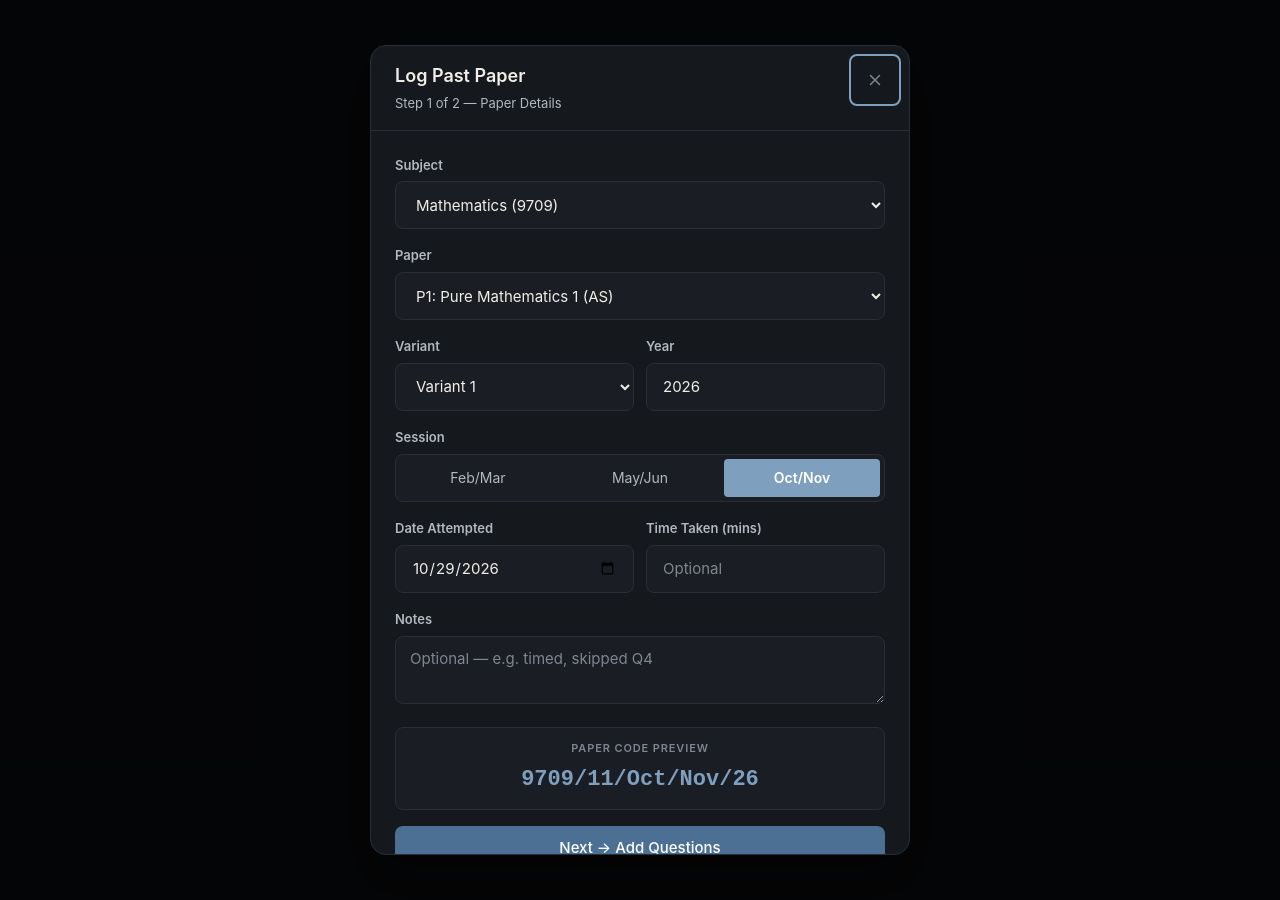
Scenario: full-paper question marks (false = editing) › rejects maximum  without coercing or saving it
The image size is (1280, 900).
Expected: the button "Next → Add Questions" is enabled, x1=395 y1=826 x2=885 y2=855
Click the button "Next → Add Questions" at (640, 848), box x1=395 y1=826 x2=885 y2=870
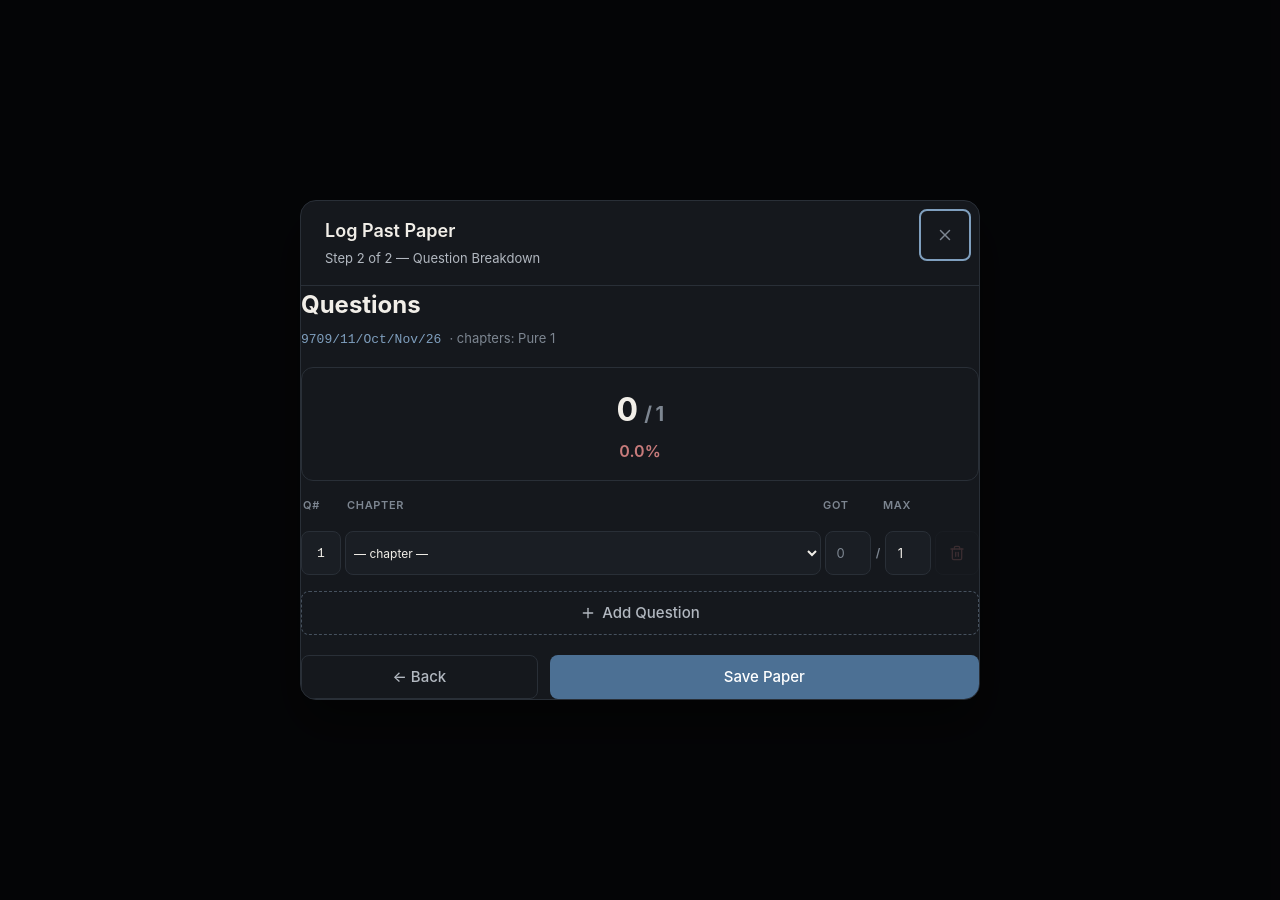
Clear the number field named "Question 1 marks available" at (908, 553), box x1=885 y1=531 x2=931 y2=575
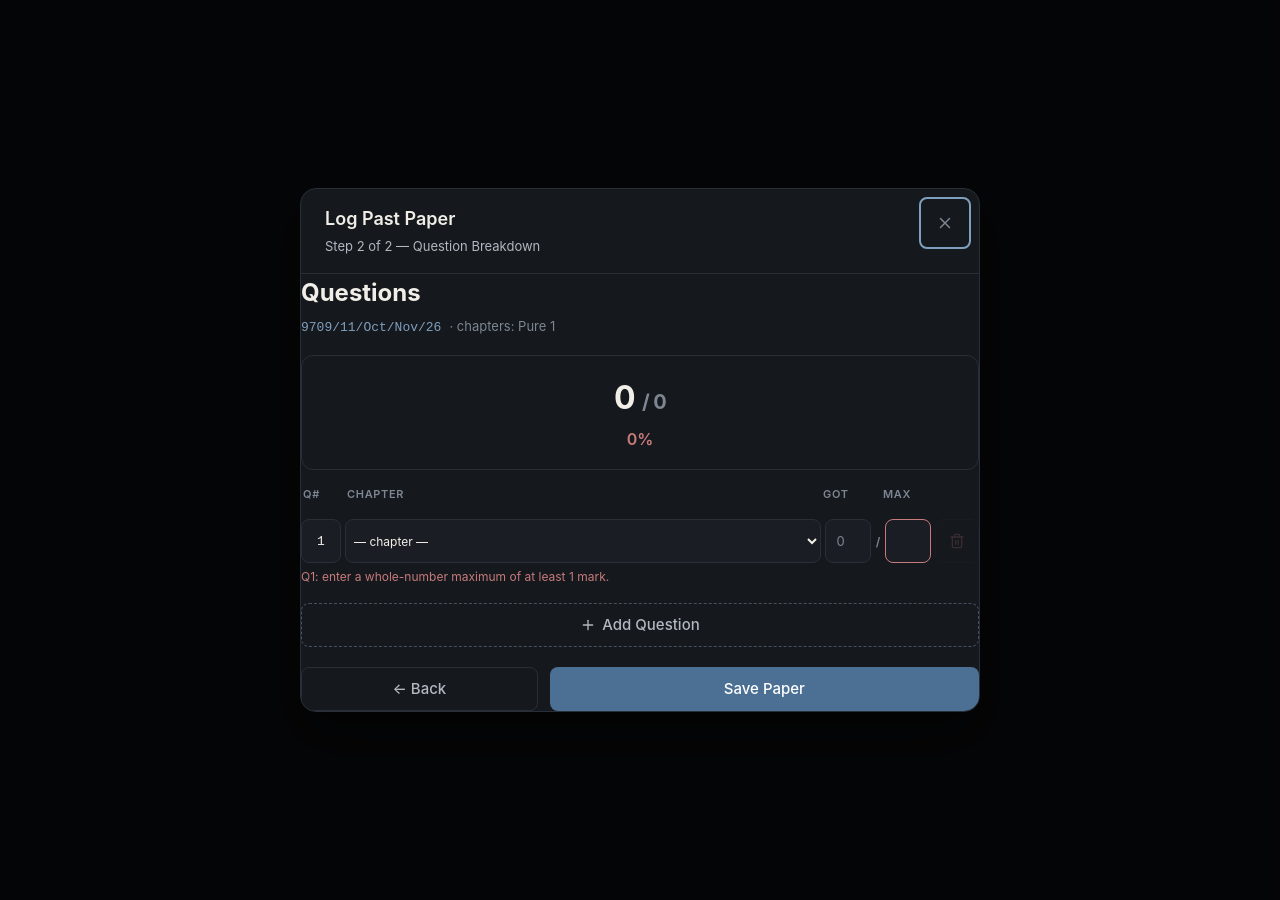
Result: the number field named "Question 1 marks available" is marked as invalid at x1=885 y1=520 x2=931 y2=564
Click the button "Save Paper" at (764, 689), box x1=550 y1=667 x2=979 y2=711
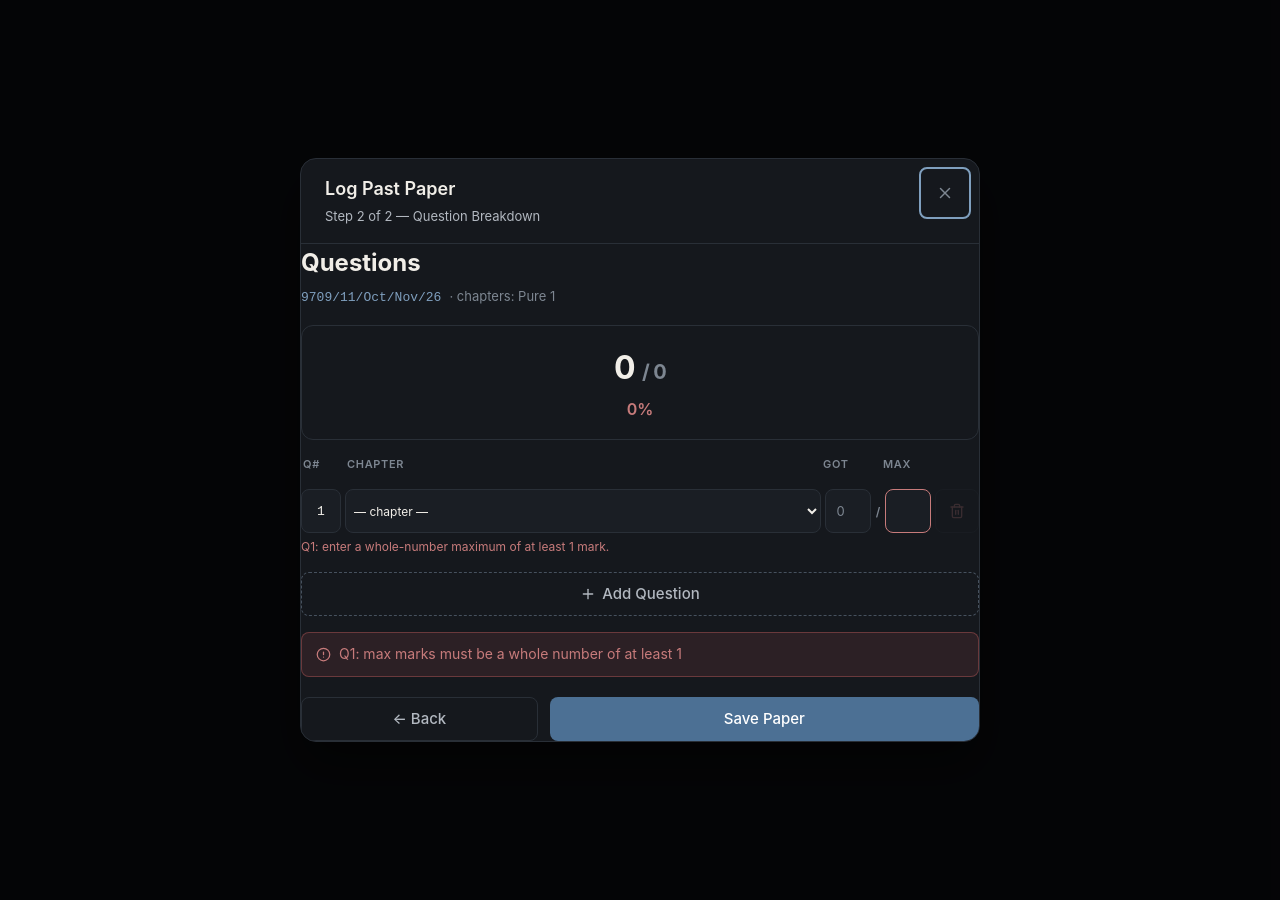
Result: the message reads "Q1: max marks must be a whole number of at least 1" at x1=339 y1=646 x2=682 y2=662
